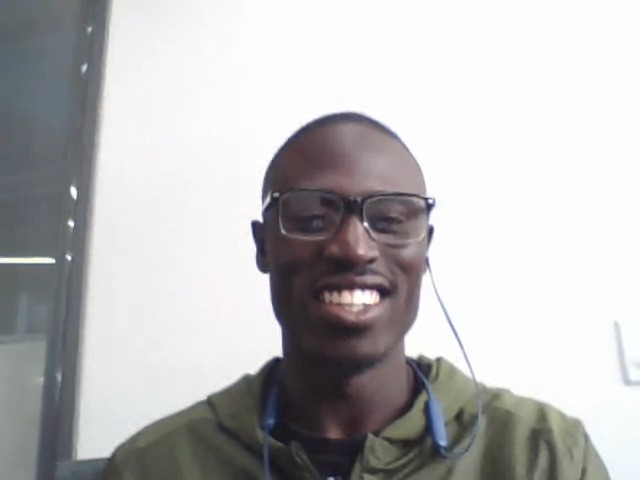face: (264, 122, 436, 369)
